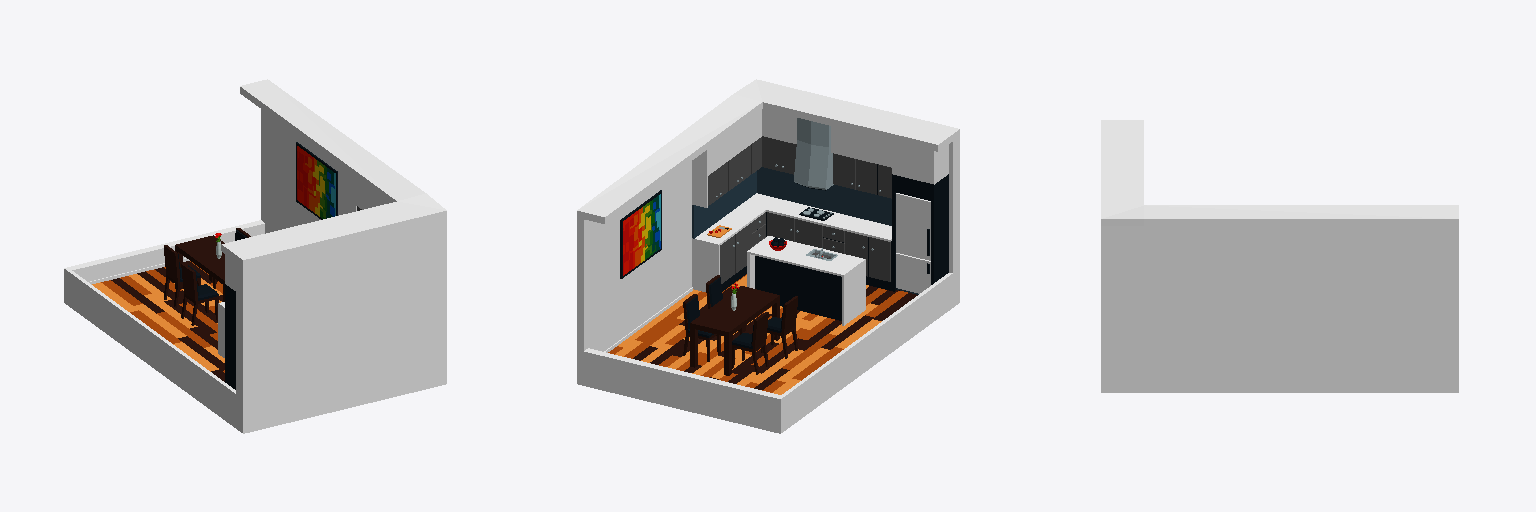
File: cocina.obj
3 views of the same model, side by side, from view 1: azimuth 30°, elevation 25°; view 2: azimuth 150°, elevation 25°; view 3: azimuth 270°, elevation 25° (orthographic).
Parts seen in each view (by area): view 1: model; view 2: model; view 3: model.
Part boxes in pixels (x1,y1,x2,y2): model: (64, 79, 446, 433); model: (577, 79, 959, 433); model: (1101, 120, 1458, 392).
Bounding box in the file's own units: 2.11 × 1.72 × 3.2.